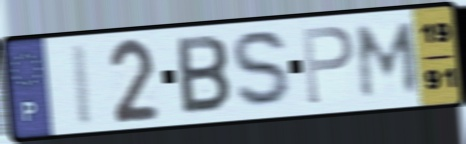2: (107, 35, 163, 127)
B: (174, 33, 233, 118)
I: (69, 41, 97, 129)
M: (355, 20, 422, 102)
P: (299, 24, 357, 108)
S: (228, 28, 298, 113)
